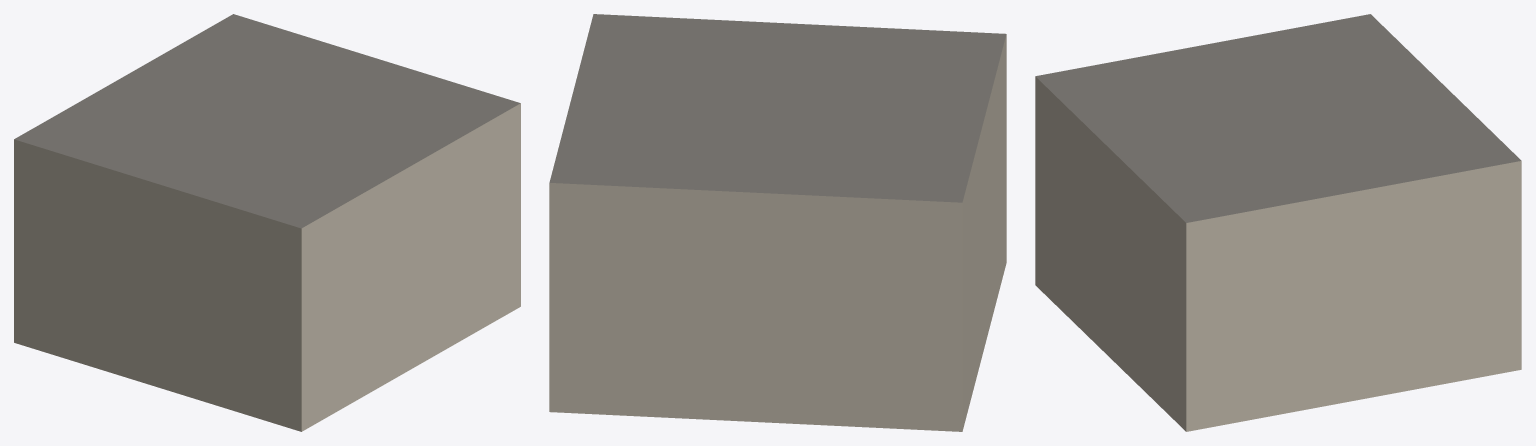
The picture shows the model from 3 angles, left to right: view 1: azimuth 30°, elevation 25°; view 2: azimuth 150°, elevation 25°; view 3: azimuth 270°, elevation 25°; orthographic projection. The views are drawn at different scales.
Visible parts, largest first — view 1: HP-w859078941; view 2: HP-w859078941; view 3: HP-w859078941.
Part boxes in pixels (x1,y1,x2,y2): HP-w859078941: (14, 14, 520, 431); HP-w859078941: (549, 14, 1006, 431); HP-w859078941: (1035, 14, 1521, 431).
Bounding box in the file's own units: 38.63 × 18 × 37.99.
